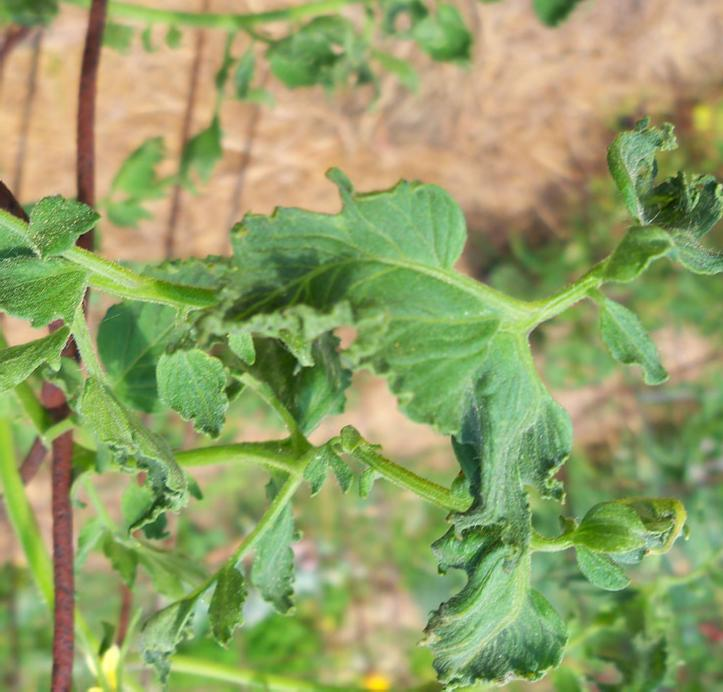Tomato leaf mosaic virus: (229, 184, 536, 436), (415, 314, 575, 692), (596, 98, 723, 309), (0, 183, 96, 331), (149, 347, 235, 442), (251, 496, 303, 629)
